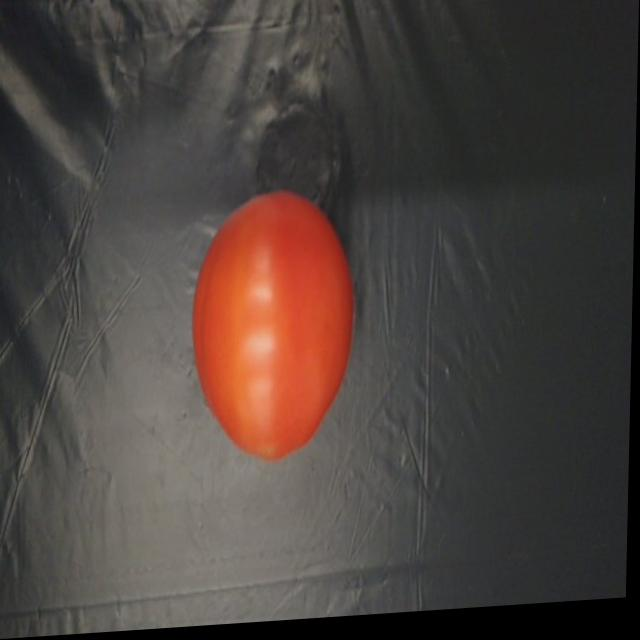kirmizi: (178, 176, 371, 485)
